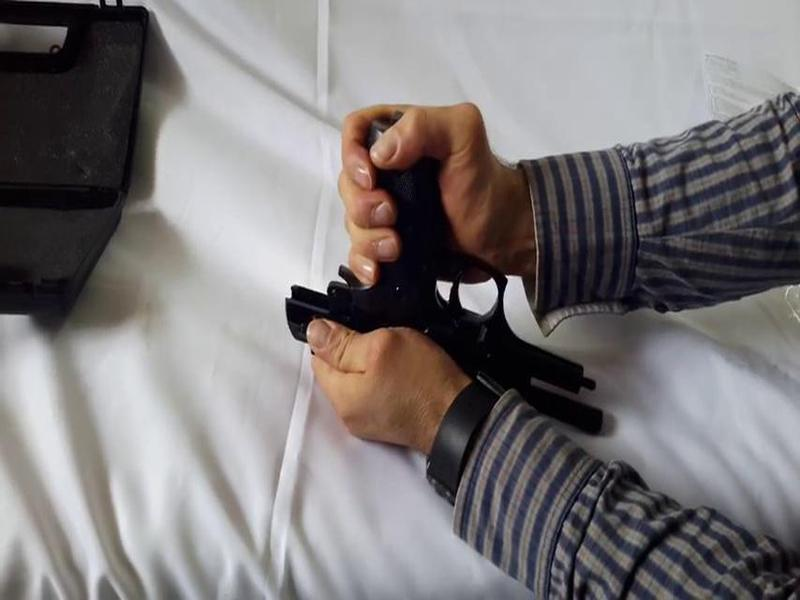Pistola: (254, 107, 635, 462)
